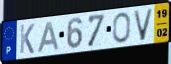6: (66, 16, 84, 51)
7: (87, 14, 107, 49)
A: (37, 21, 60, 54)
K: (19, 23, 36, 55)
O: (112, 11, 132, 44)
V: (132, 8, 155, 43)
